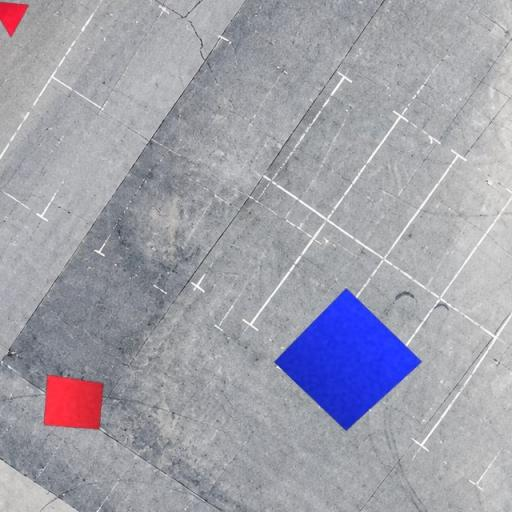BLUE_SQUARE: (274, 287, 423, 431)
RED_SQUARE: (42, 374, 104, 430)
